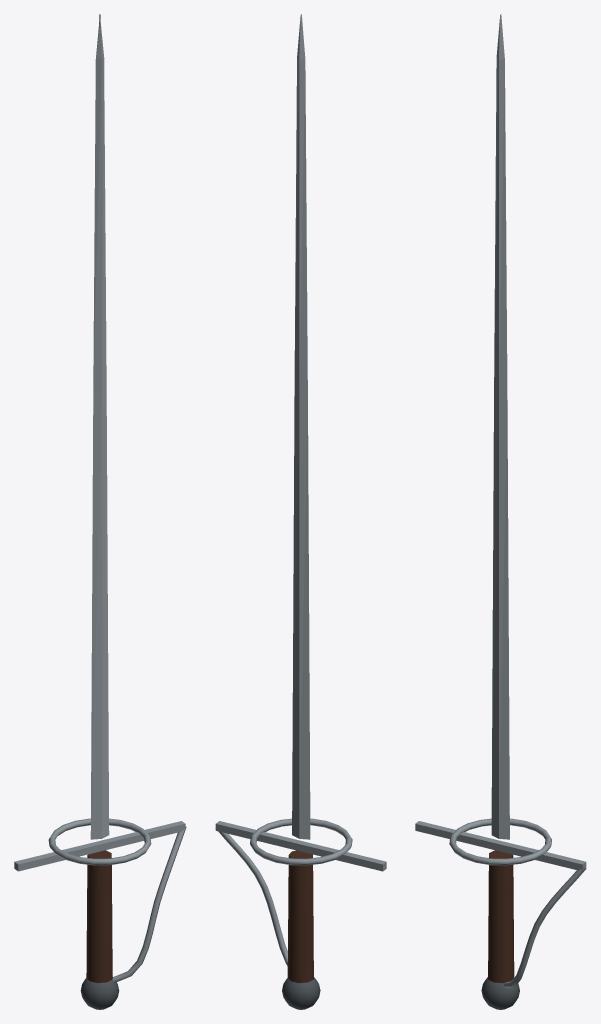
The model's file is rapier.glb.
3 views of the same model, side by side, from view 1: azimuth 30°, elevation 25°; view 2: azimuth 150°, elevation 25°; view 3: azimuth 330°, elevation 25° (orthographic).
Parts seen in each view (by area): view 1: rapier-blade, rapier-grip, rapier-quillon, rapier-guard, rapier-knuckle-bow, rapier-pommel; view 2: rapier-blade, rapier-grip, rapier-quillon, rapier-guard, rapier-knuckle-bow, rapier-pommel; view 3: rapier-blade, rapier-grip, rapier-quillon, rapier-guard, rapier-knuckle-bow, rapier-pommel.
Part boxes in pixels (x1,y1,x2,y2): rapier-blade: [90, 14, 109, 839]; rapier-grip: [86, 850, 112, 982]; rapier-quillon: [14, 821, 185, 871]; rapier-guard: [48, 818, 151, 865]; rapier-knuckle-bow: [112, 826, 186, 982]; rapier-pommel: [80, 978, 119, 1009]; rapier-blade: [292, 14, 310, 839]; rapier-grip: [287, 850, 313, 982]; rapier-quillon: [215, 821, 386, 871]; rapier-guard: [250, 818, 352, 865]; rapier-knuckle-bow: [218, 831, 287, 965]; rapier-pommel: [282, 977, 320, 1009]; rapier-blade: [491, 14, 509, 839]; rapier-grip: [488, 850, 514, 982]; rapier-quillon: [415, 821, 586, 871]; rapier-guard: [449, 818, 551, 865]; rapier-knuckle-bow: [503, 867, 585, 988]; rapier-pommel: [481, 977, 519, 1009].
Bounding box in the file's own units: 0.1578 × 0.8828 × 0.0832.
